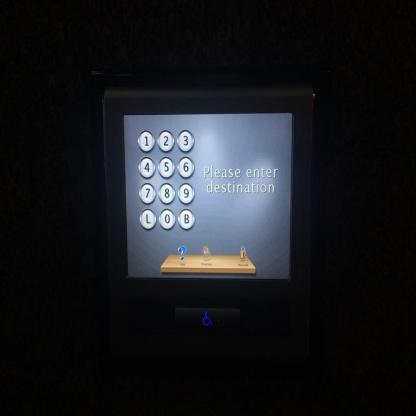0: (158, 206, 176, 232)
1: (137, 127, 155, 153)
2: (156, 128, 175, 153)
3: (176, 128, 194, 153)
4: (137, 154, 156, 179)
5: (157, 152, 175, 180)
6: (175, 154, 195, 180)
7: (138, 180, 156, 205)
8: (157, 180, 175, 206)
9: (176, 180, 195, 206)
B: (177, 207, 195, 232)
L: (138, 206, 156, 232)
